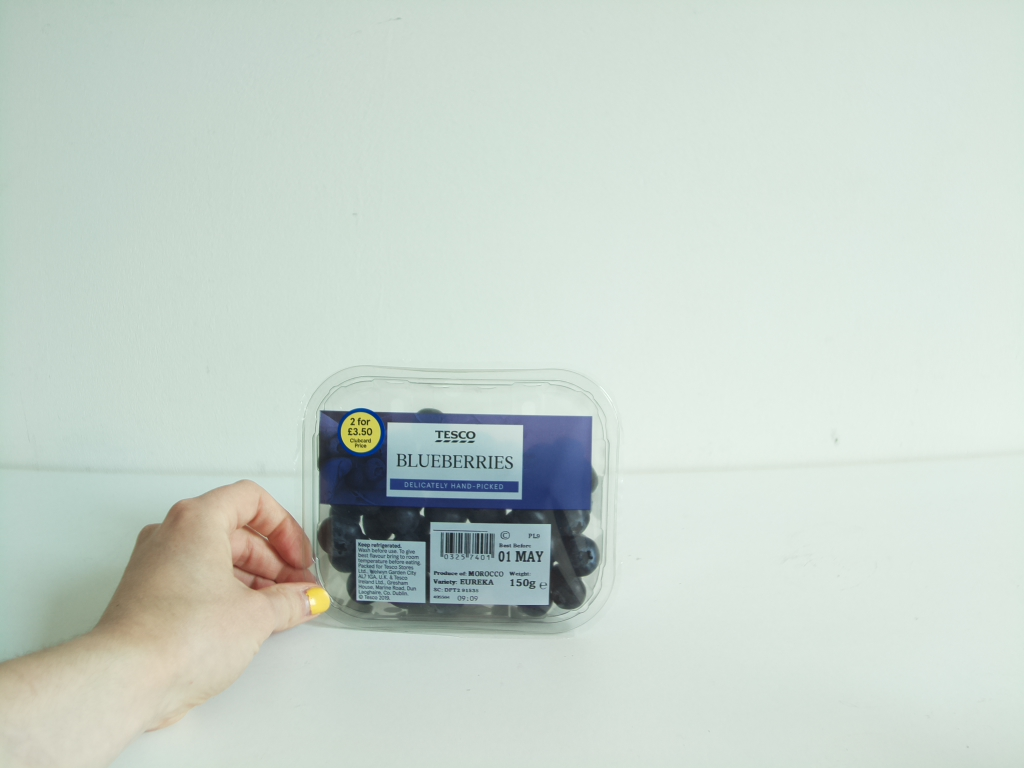soft-fruit: (298, 361, 617, 635)
